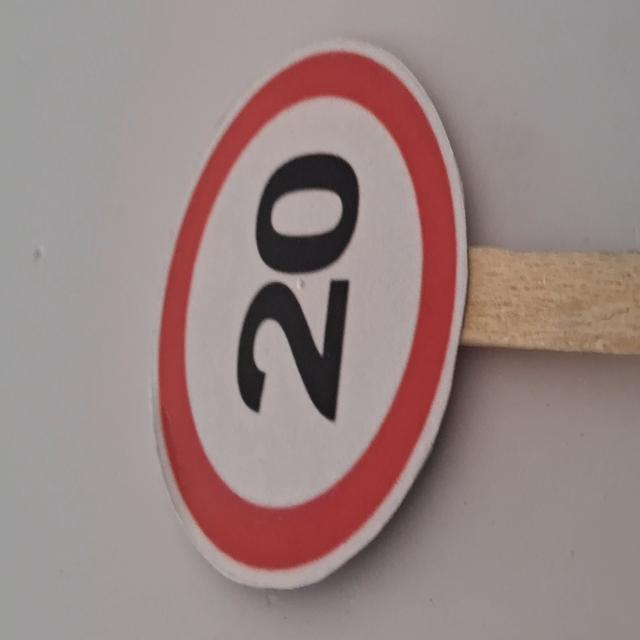Speed20: (148, 33, 472, 601)
